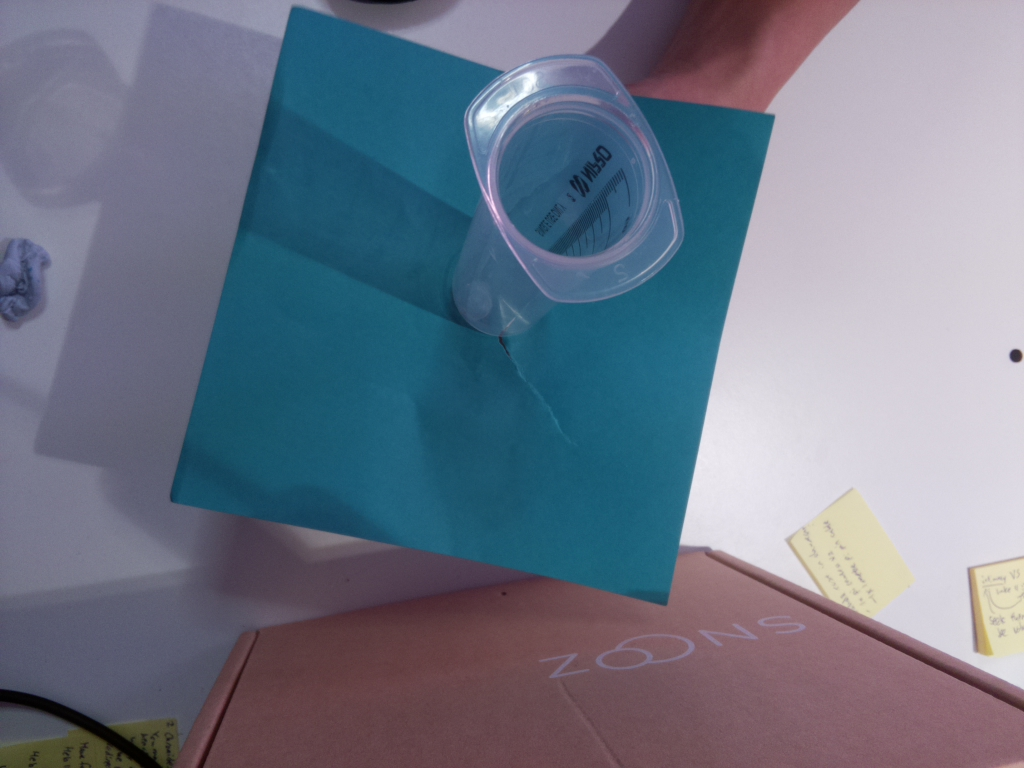clean: (460, 54, 687, 303)
